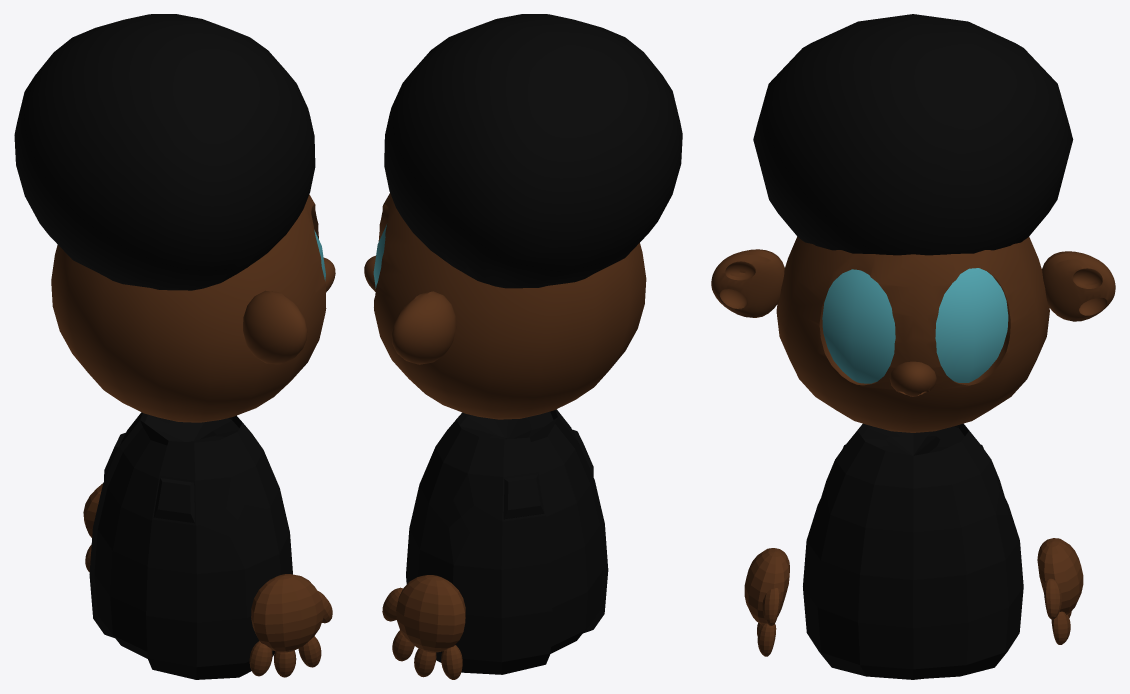
Rendered from npc 1low poly .fbx.
3 views of the same model, side by side, from view 1: azimuth 30°, elevation 25°; view 2: azimuth 150°, elevation 25°; view 3: azimuth 270°, elevation 25° (orthographic).
Parts seen in each view (by area): view 1: Sphere.003, Sphere, Sphere.001, Sphere.009, Sphere.023, Sphere.016, Sphere.008, Sphere.018, Sphere.017; view 2: Sphere.003, Sphere, Sphere.001, Sphere.008, Sphere.022, Sphere.014, Sphere.013; view 3: Sphere.003, Sphere, Sphere.001, Sphere.019, Sphere.022, Sphere.023, Sphere.008, Sphere.009, Sphere.024.
Part boxes in pixels (x1,y1,x2,y2): Sphere.003: (14,14,315,290); Sphere: (89,412,292,679); Sphere.001: (51,194,326,422); Sphere.009: (251,574,323,652); Sphere.023: (243,290,307,364); Sphere.016: (249,641,272,676); Sphere.008: (83,483,103,537); Sphere.018: (298,636,321,667); Sphere.017: (274,650,296,677); Sphere.003: (384,14,682,288); Sphere: (406,409,608,674); Sphere.001: (374,193,646,419); Sphere.008: (396,575,465,652); Sphere.022: (391,291,456,364); Sphere.014: (441,645,462,679); Sphere.013: (414,648,436,677); Sphere.003: (753,14,1073,255); Sphere: (803,423,1023,679); Sphere.001: (776,236,1049,432); Sphere.019: (822,268,1008,383); Sphere.022: (1042,251,1115,321); Sphere.023: (711,249,784,317); Sphere.008: (1037,538,1083,614); Sphere.009: (744,548,789,624); Sphere.024: (889,361,936,396).
Bounding box in the file's own units: 136 × 276 × 165.
